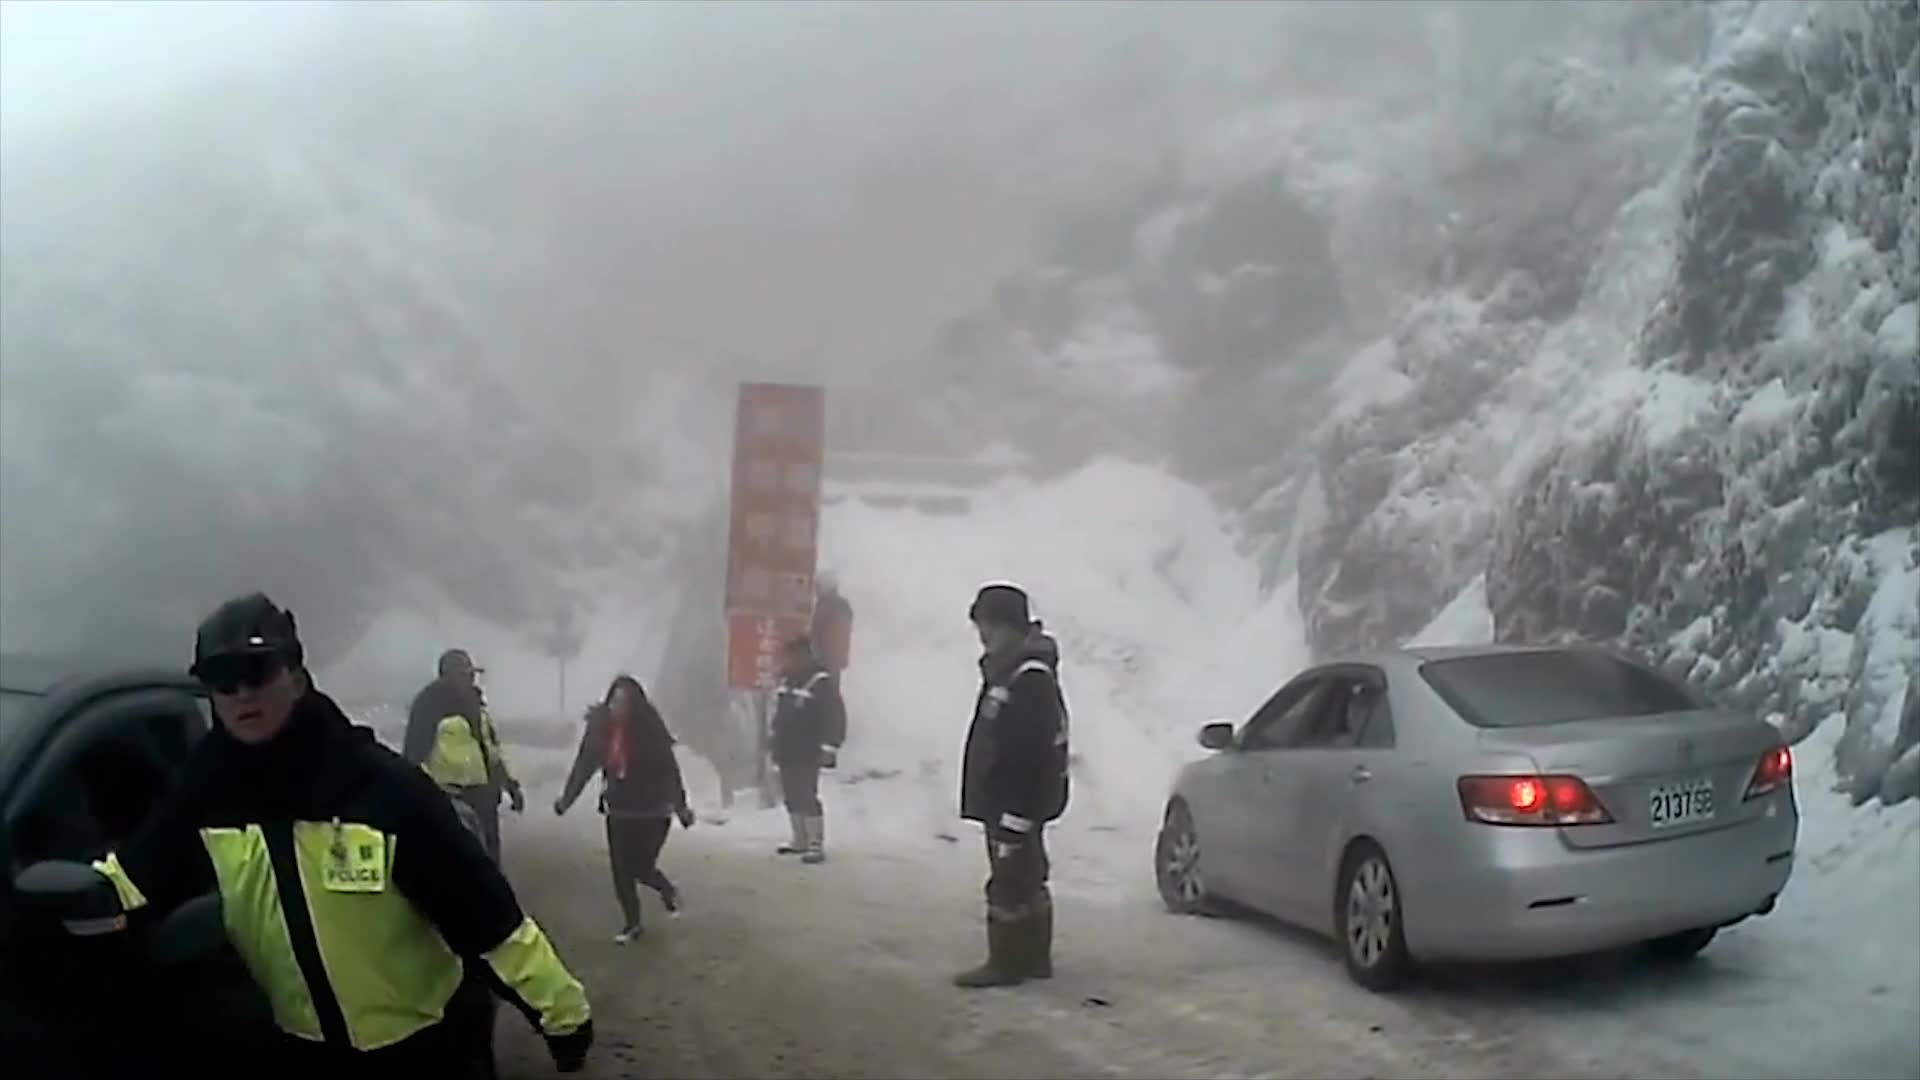pedestrian: (44, 591, 586, 1080), (942, 585, 1073, 988), (551, 675, 700, 945), (397, 645, 525, 930), (764, 639, 848, 864), (804, 565, 865, 755)
vehicle: (1153, 642, 1799, 991), (0, 654, 496, 1079)
